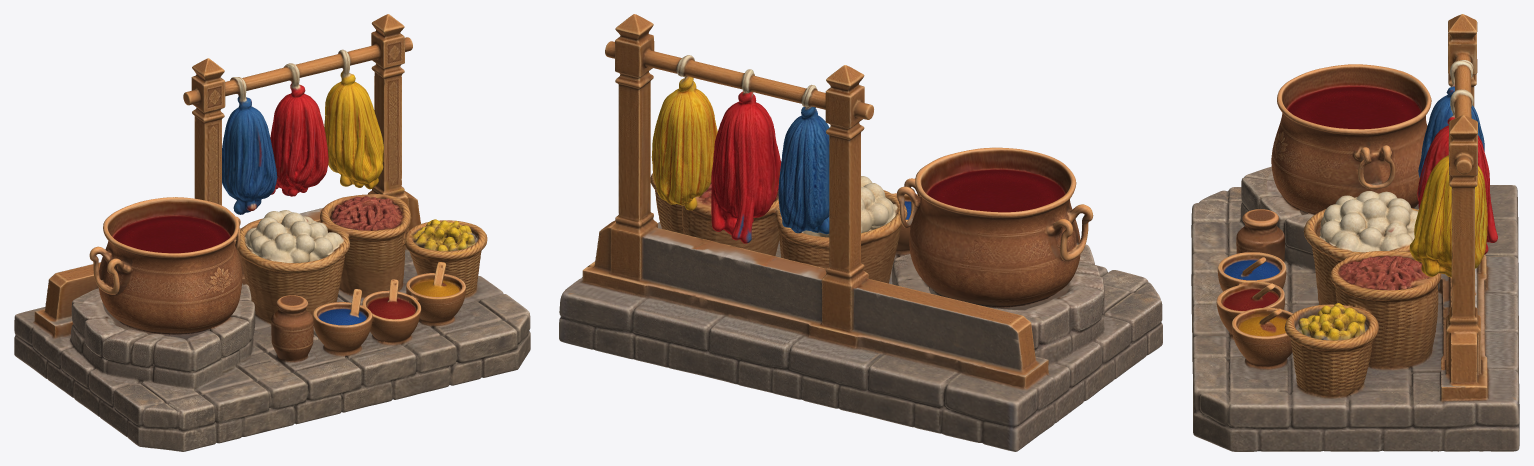
The model's file is boyama.glb.
3 views of the same model, side by side, from view 1: azimuth 30°, elevation 25°; view 2: azimuth 150°, elevation 25°; view 3: azimuth 270°, elevation 25° (orthographic). The views are drawn at different scales.
Bounding box in the file's own units: 1.9 × 1.26 × 1.19.
1 material, 1 textured.
